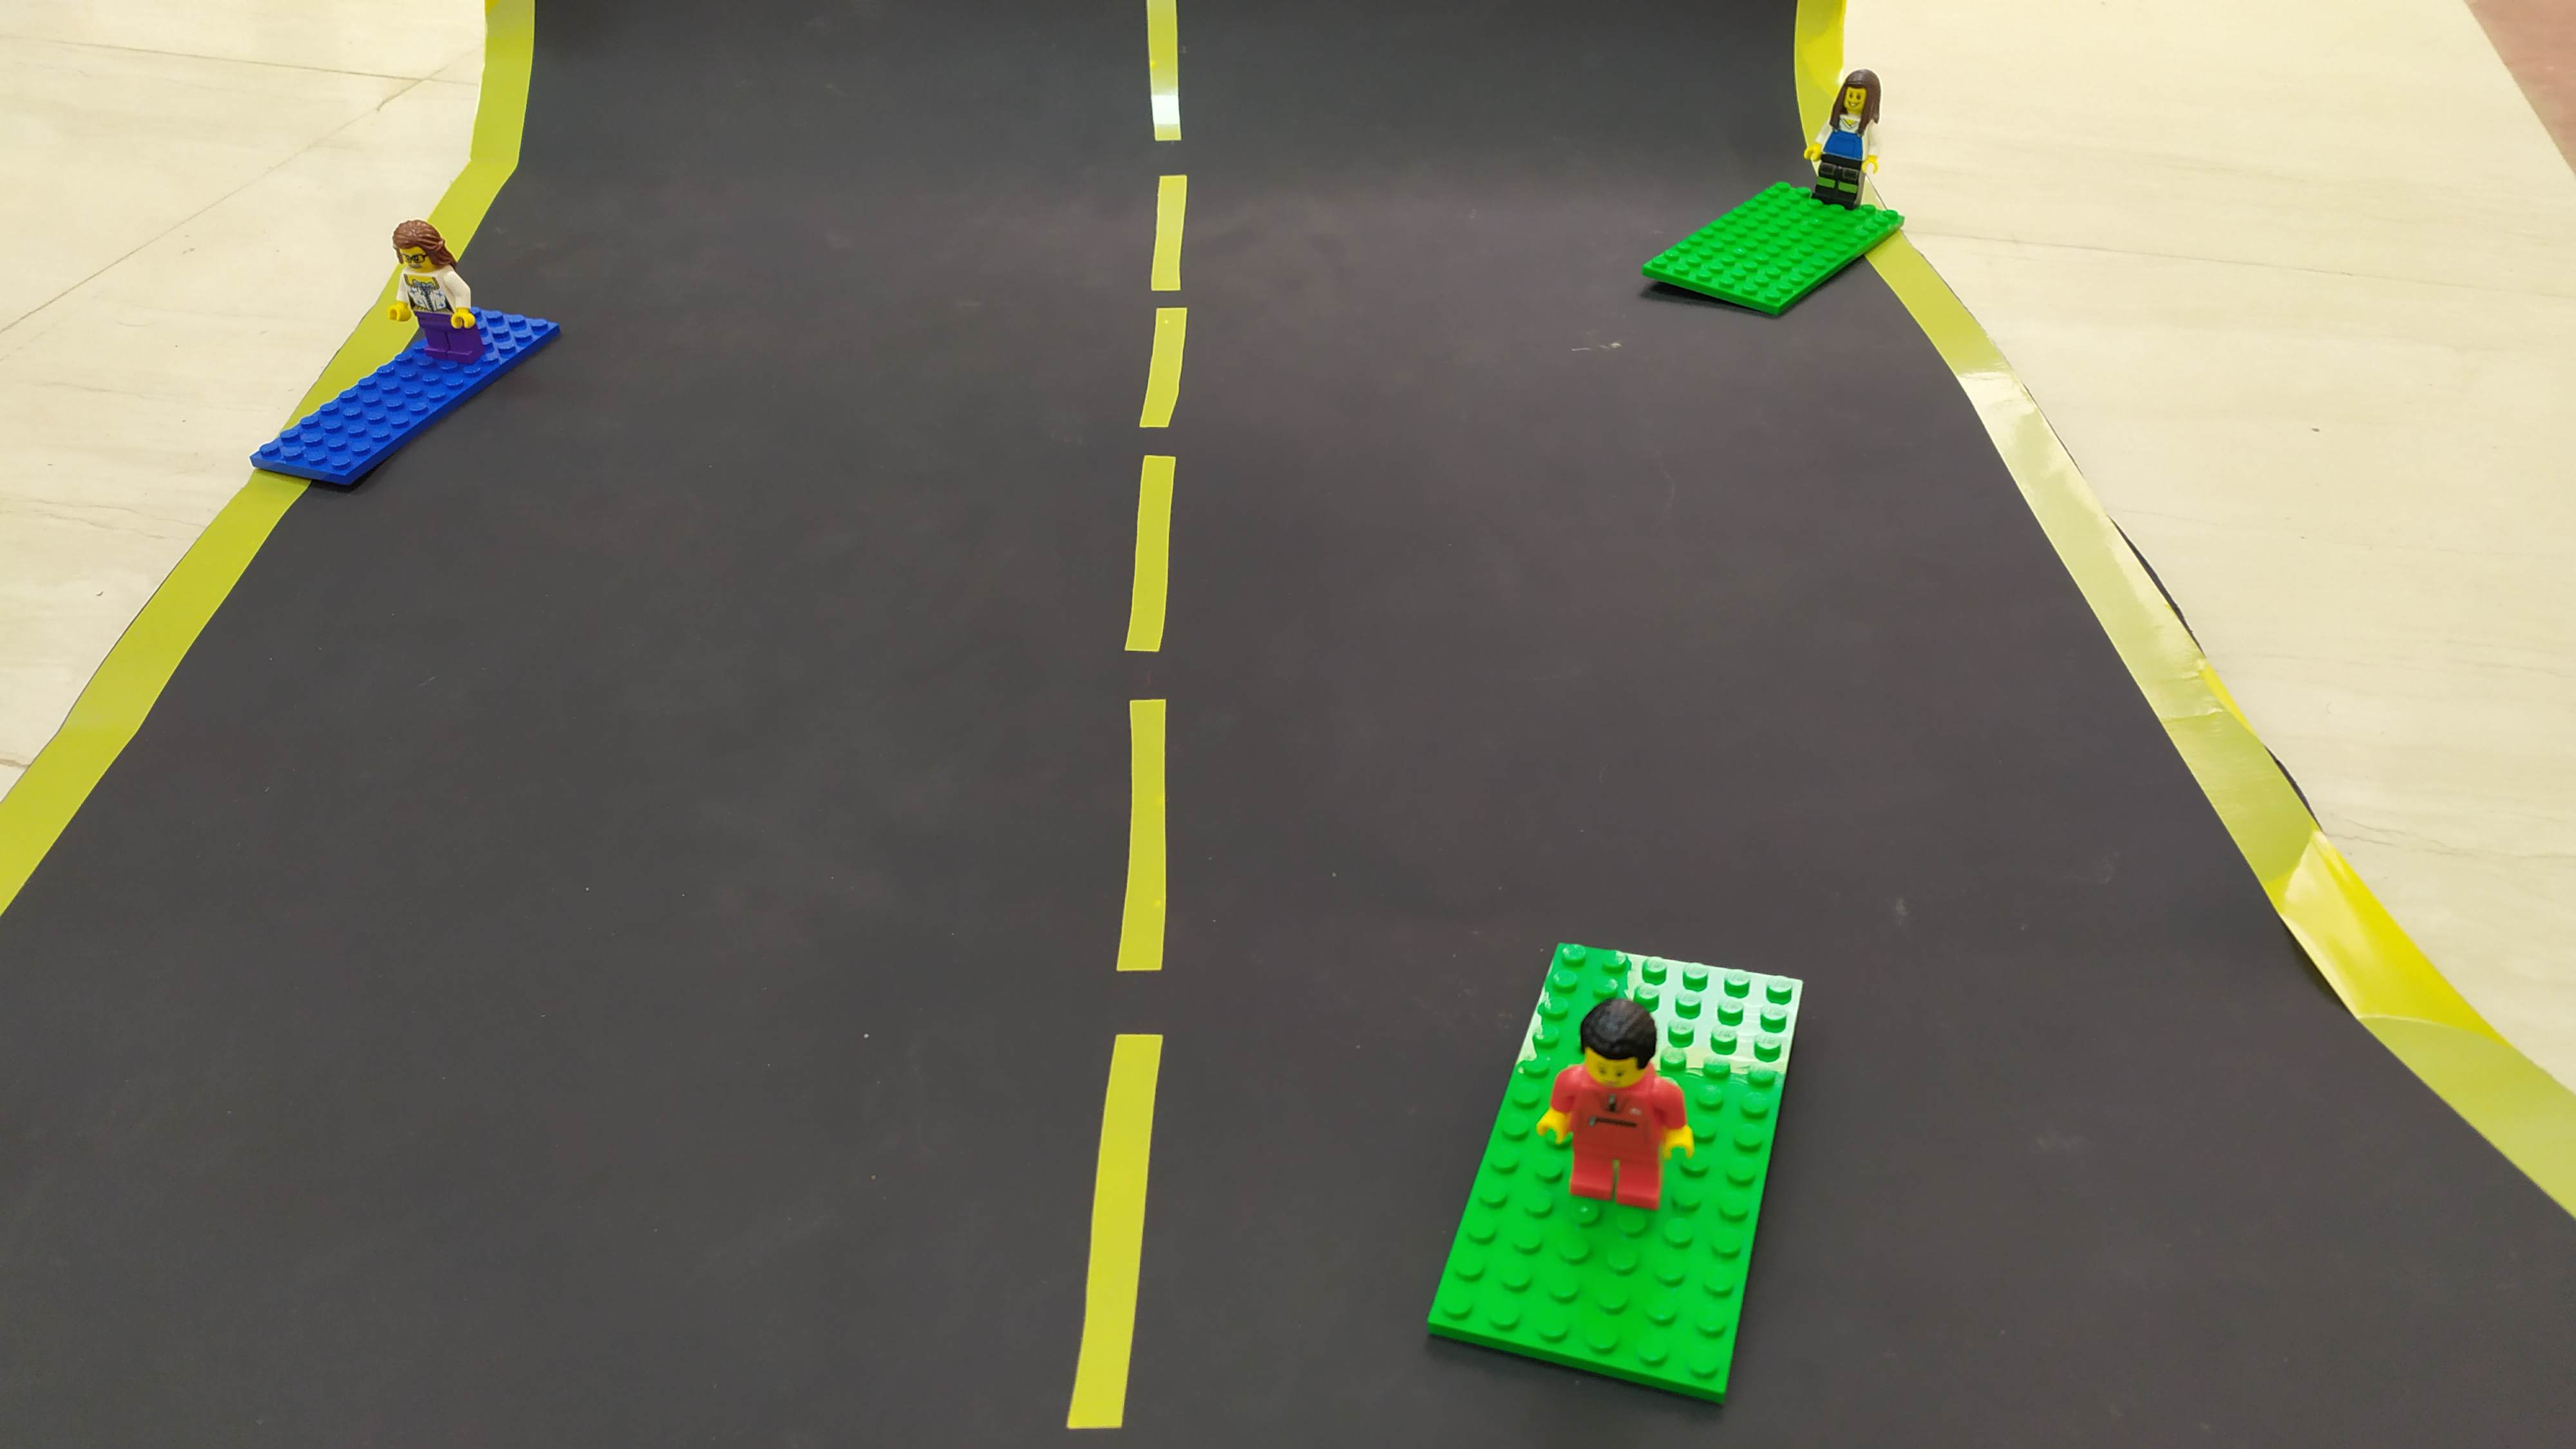Person: (1549, 1001, 1703, 1214), (383, 196, 512, 402), (1826, 55, 1877, 241)
